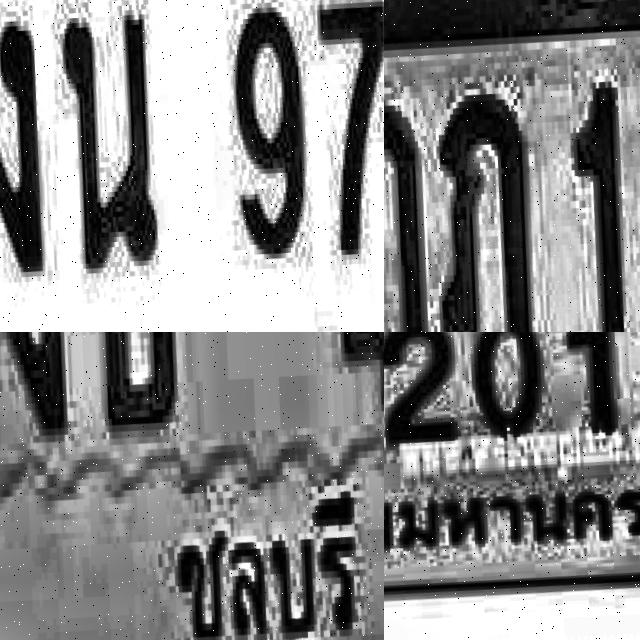license-plate: (0, 0, 384, 332), (0, 332, 384, 640), (384, 0, 640, 332), (384, 332, 640, 635)
